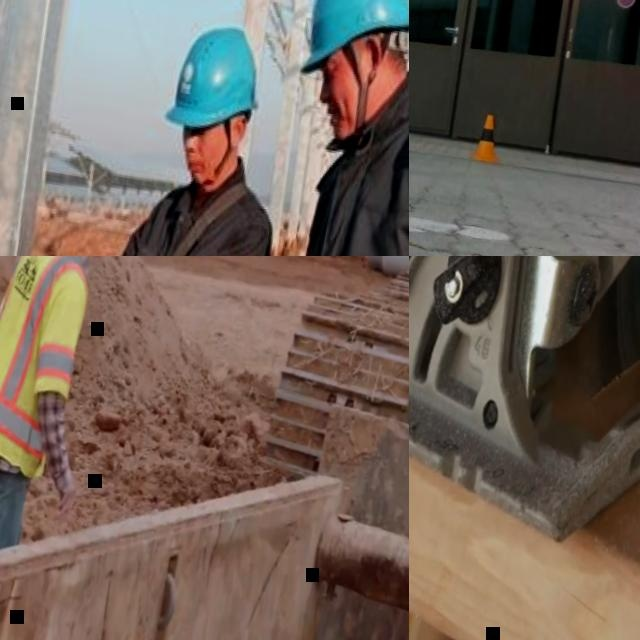Hardhat: (161, 16, 269, 137), (292, 0, 409, 89)
NO-Mask: (327, 98, 371, 138), (186, 149, 222, 185)
NO-Safety Vest: (263, 110, 409, 256), (100, 185, 270, 256)
Person: (0, 0, 310, 256), (232, 0, 409, 256), (0, 256, 135, 561)
Safety Cone: (470, 112, 507, 163)
Safety Vest: (0, 256, 102, 484)
machinery: (259, 256, 409, 520)
